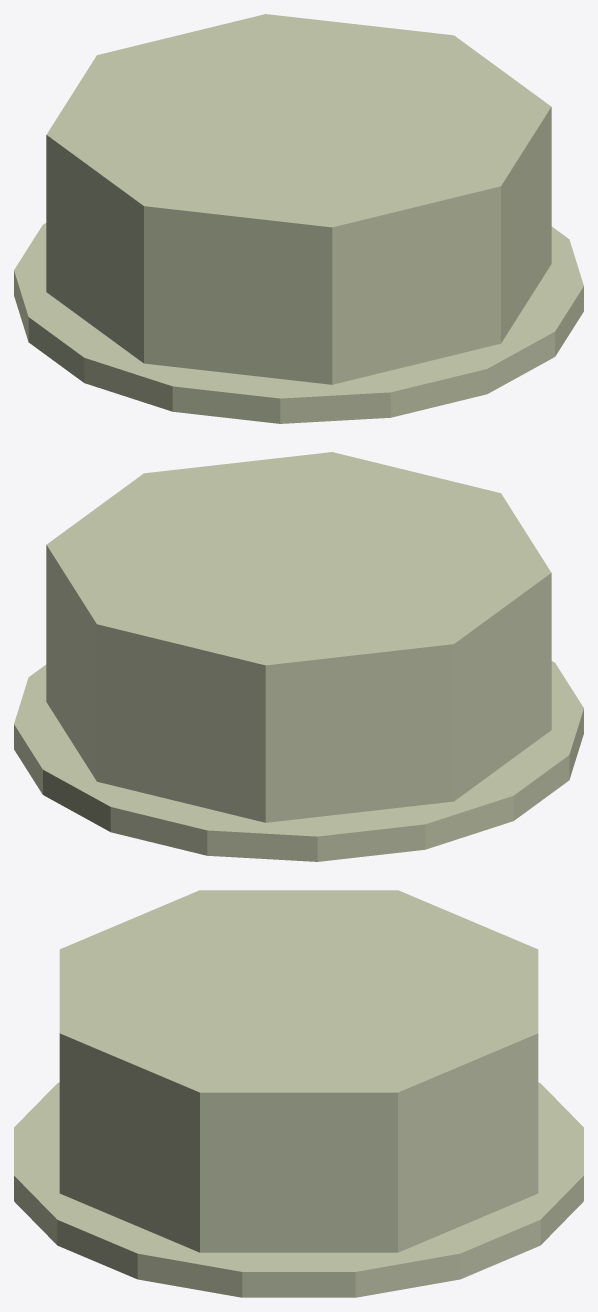
The model's file is Acamar_Lab_2_Collider.obj.
3 renders of one model, top to bottom at view 1: azimuth 30°, elevation 25°; view 2: azimuth 150°, elevation 25°; view 3: azimuth 270°, elevation 25°, orthographic.
Parts seen in each view (by area): view 1: Acamar_Lab_2_Collider1, Acamar_Lab_2_Collider2; view 2: Acamar_Lab_2_Collider1, Acamar_Lab_2_Collider2; view 3: Acamar_Lab_2_Collider1, Acamar_Lab_2_Collider2.
Part boxes in pixels (<box>): Acamar_Lab_2_Collider1: <box>46,14,551,384</box>; Acamar_Lab_2_Collider2: <box>14,223,583,423</box>; Acamar_Lab_2_Collider1: <box>46,452,551,822</box>; Acamar_Lab_2_Collider2: <box>14,661,583,861</box>; Acamar_Lab_2_Collider1: <box>59,890,538,1252</box>; Acamar_Lab_2_Collider2: <box>14,1082,583,1297</box>.
Bounding box in the file's own units: 2.5 × 0.9 × 2.5.
